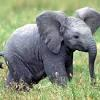elephant: (0, 7, 99, 84)
